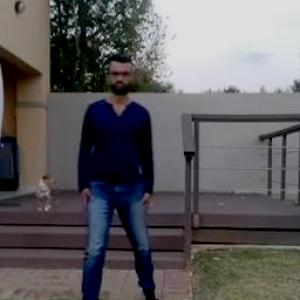follow: (91, 57, 156, 299)
